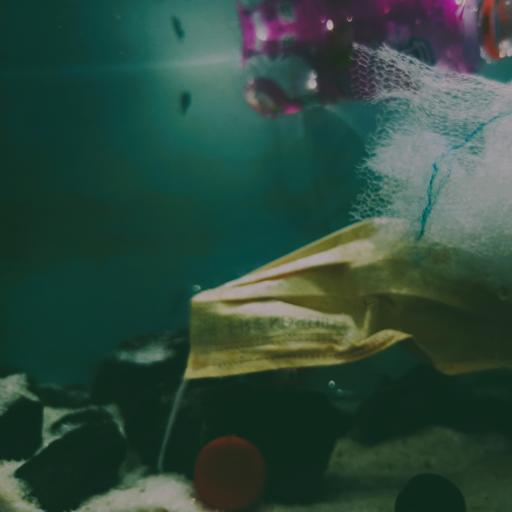bottle_cap: (192, 437, 268, 509), (394, 469, 469, 512)
mask: (168, 218, 507, 412)
net: (343, 30, 512, 296)
plastic_bottle: (238, 0, 512, 114)
